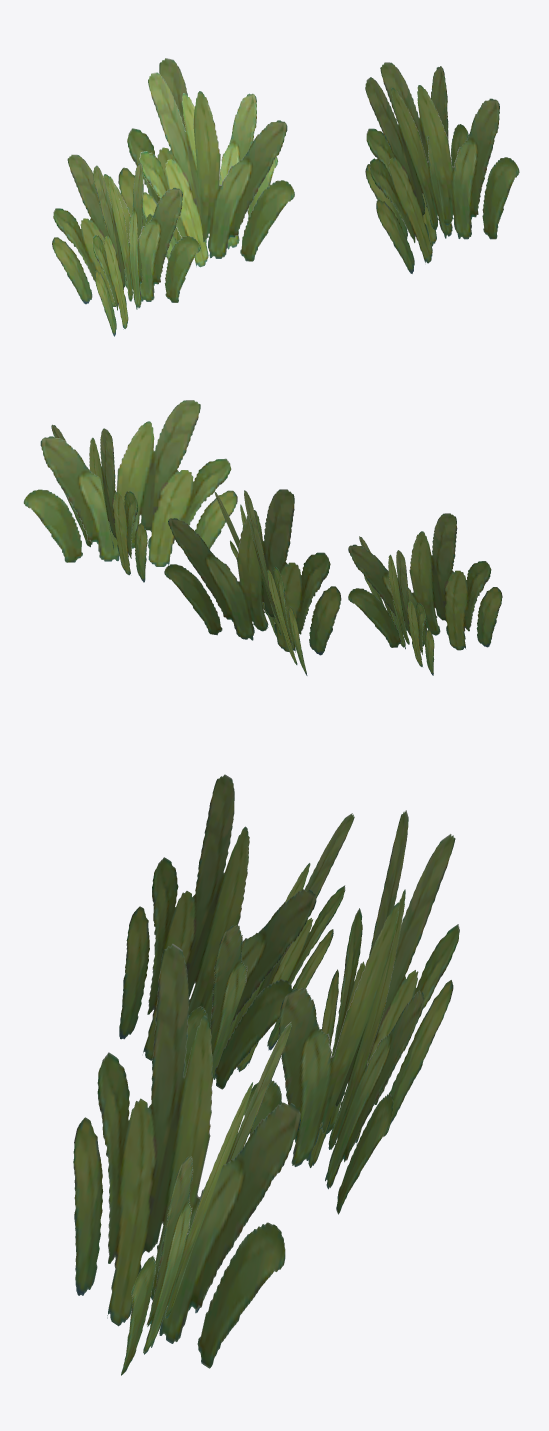
The model's file is Map_Choose_grass01.FBX.
3 views of the same model, one above another, from view 1: azimuth 30°, elevation 25°; view 2: azimuth 150°, elevation 25°; view 3: azimuth 270°, elevation 25° (orthographic). The views are drawn at different scales.
Parts seen in each view (by area): view 1: Map_Choose_grass01; view 2: Map_Choose_grass01; view 3: Map_Choose_grass01.
Boxes of the visible parts, x1,y1,x2,y2 form: Map_Choose_grass01: [52, 58, 519, 336]; Map_Choose_grass01: [23, 400, 502, 675]; Map_Choose_grass01: [73, 774, 459, 1375].
Size of the model in its own units: 212 by 89.61 by 116.
Materials: 1 (1 with a texture image).
